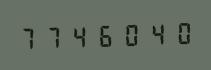four: (67, 21, 91, 50), (142, 18, 166, 47)
seven: (17, 23, 41, 52), (42, 22, 66, 51)
six: (92, 20, 116, 49)
zero: (117, 19, 141, 48), (167, 17, 191, 46)
